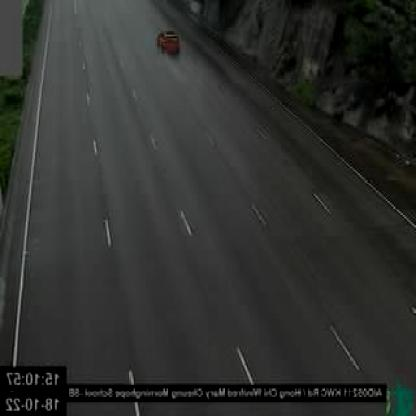Car: (158, 28, 180, 57)
